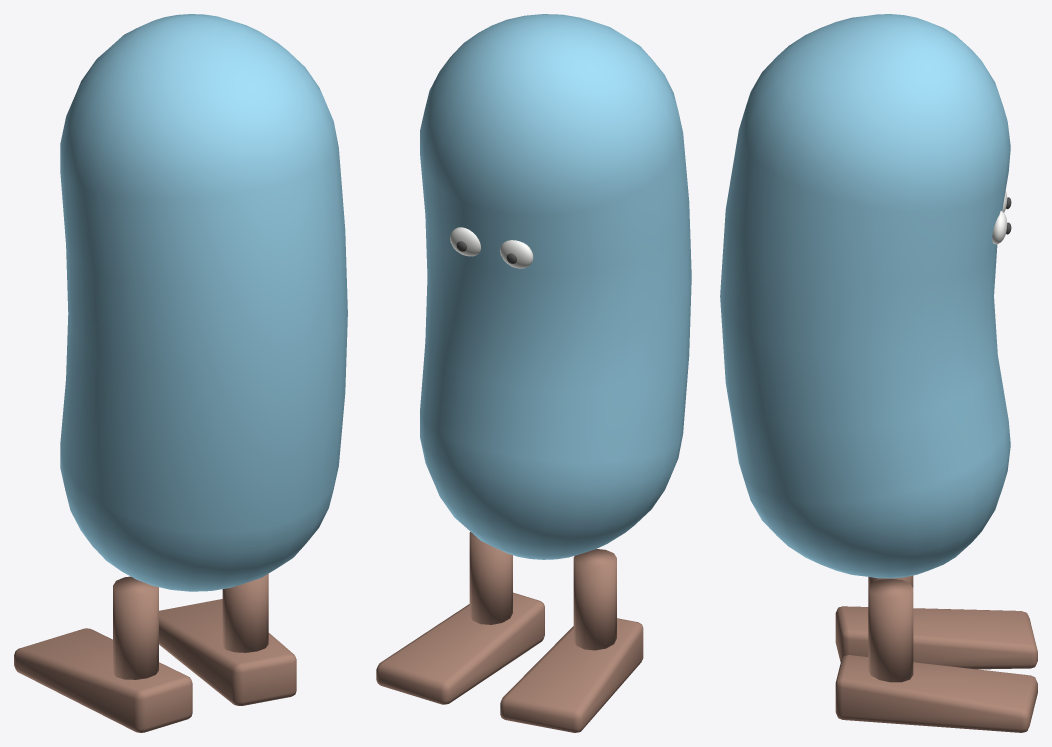
The model's file is bean-static-prototype.glb.
3 views of the same model, side by side, from view 1: azimuth 30°, elevation 25°; view 2: azimuth 150°, elevation 25°; view 3: azimuth 270°, elevation 25° (orthographic). The views are drawn at different scales.
Visible parts, largest first — view 1: Body, Shoe_Right, Shoe_Left, Shin_Right, Shin_Left; view 2: Body, Shoe_Left, Shoe_Right, Shin_Right, Shin_Left, Eye_Right_White, Eye_Left_White; view 3: Body, Shoe_Left, Shoe_Right, Shin_Left.
Boxes of the visible parts, x1,y1,x2,y2 form: Body: [60, 14, 347, 591]; Shoe_Right: [14, 628, 192, 732]; Shoe_Left: [159, 599, 296, 705]; Shin_Right: [113, 576, 158, 679]; Shin_Left: [222, 574, 268, 652]; Body: [420, 14, 691, 559]; Shoe_Left: [376, 592, 544, 704]; Shoe_Right: [500, 618, 643, 732]; Shin_Right: [573, 549, 616, 650]; Shin_Left: [469, 532, 512, 624]; Eye_Right_White: [500, 240, 533, 268]; Eye_Left_White: [450, 227, 480, 256]; Body: [720, 14, 1010, 578]; Shoe_Left: [835, 655, 1037, 732]; Shoe_Right: [835, 606, 1037, 669]; Shin_Left: [868, 578, 913, 682].
Bounding box in the file's own units: 0.64 × 1.7 × 0.7425.
